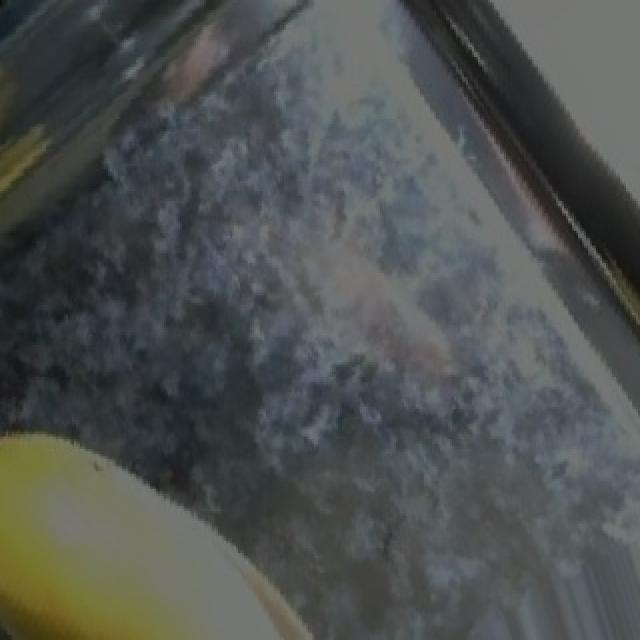fruit: (0, 387, 264, 640)
